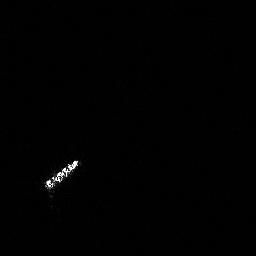ship: (40, 156, 84, 194)
